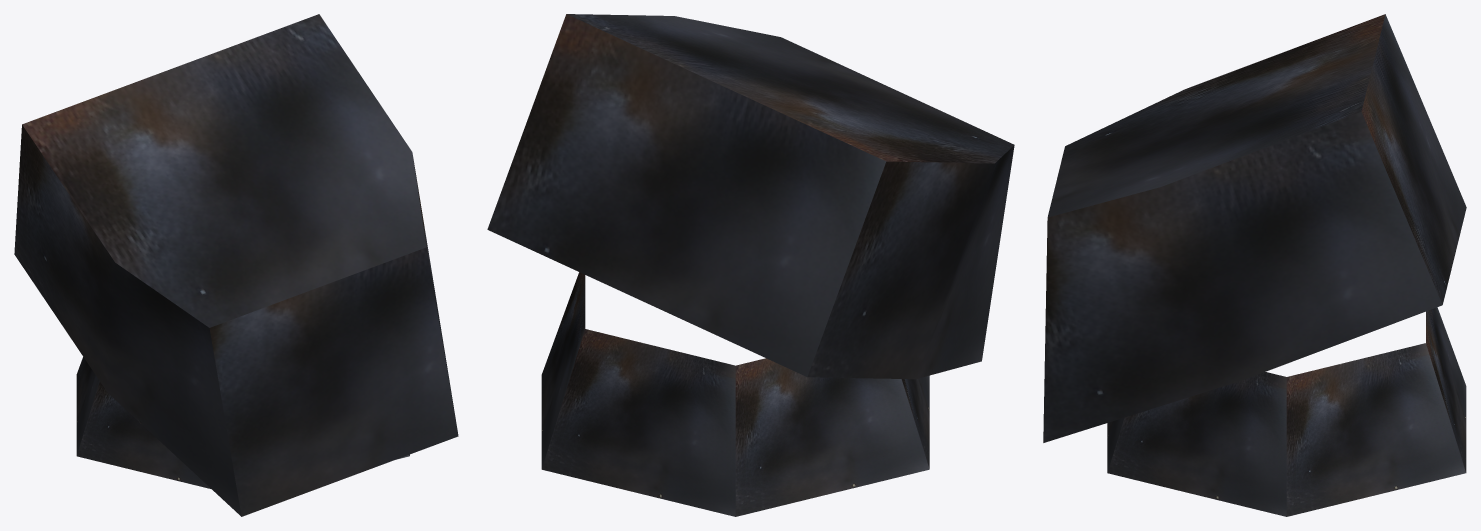
Rendered from cruisergun1burn.gltf.
3 views of the same model, side by side, from view 1: azimuth 30°, elevation 25°; view 2: azimuth 150°, elevation 25°; view 3: azimuth 270°, elevation 25° (orthographic). The views are drawn at different scales.
Visible parts, largest first — view 1: cruisergun1burn_atomic0, cruisergun1burn_atomic1; view 2: cruisergun1burn_atomic0, cruisergun1burn_atomic1; view 3: cruisergun1burn_atomic0, cruisergun1burn_atomic1.
Part boxes in pixels (bbox=[...]): cruisergun1burn_atomic0: bbox=[14, 14, 458, 516]; cruisergun1burn_atomic1: bbox=[76, 357, 409, 488]; cruisergun1burn_atomic0: bbox=[487, 14, 1014, 379]; cruisergun1burn_atomic1: bbox=[541, 272, 929, 516]; cruisergun1burn_atomic0: bbox=[1043, 14, 1466, 442]; cruisergun1burn_atomic1: bbox=[1107, 307, 1466, 516].
Size of the model in its own units: 14.17 by 13.83 by 14.12.
1 material, 1 textured.
